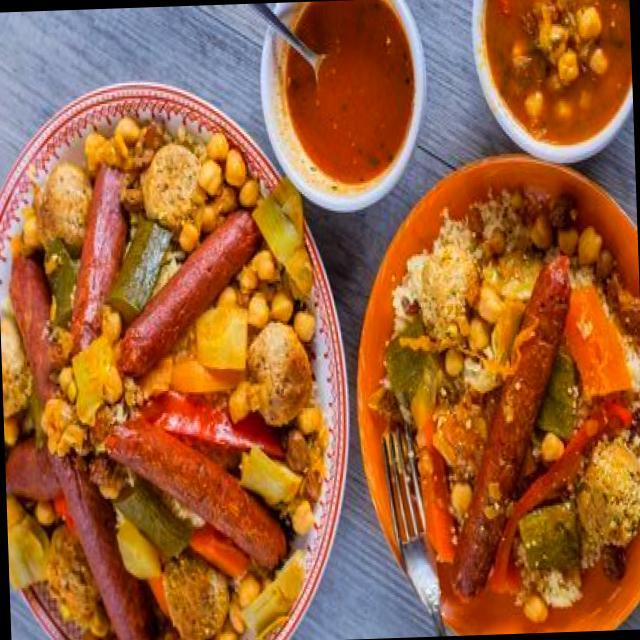Couscous: (0, 113, 338, 640), (367, 174, 640, 627)
